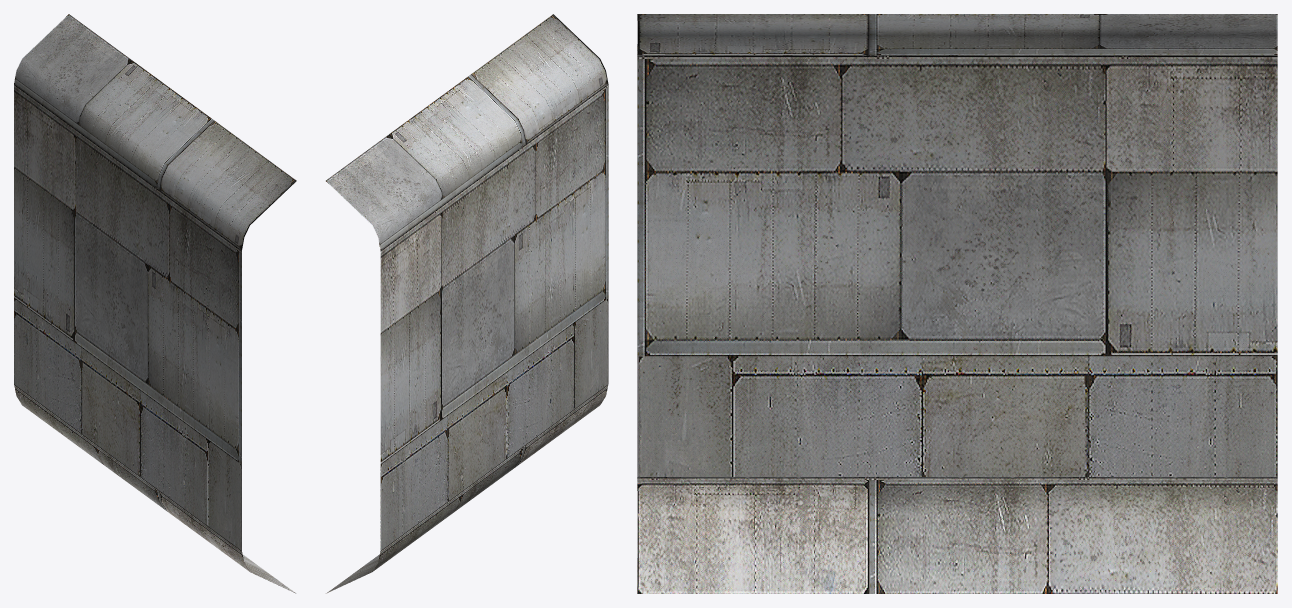
Rendered from Wall_F_Big4mts_01.fbx.
3 views of the same model, side by side, from view 1: azimuth 30°, elevation 25°; view 2: azimuth 150°, elevation 25°; view 3: azimuth 270°, elevation 25° (orthographic). The views are drawn at different scales.
Visible parts, largest first — view 1: Wall_F_Big4mts_01; view 2: Wall_F_Big4mts_01; view 3: Wall_F_Big4mts_01.
Boxes of the visible parts, x1=… form: Wall_F_Big4mts_01: x1=14, y1=14, x2=296, y2=593; Wall_F_Big4mts_01: x1=326, y1=14, x2=608, y2=593; Wall_F_Big4mts_01: x1=637, y1=14, x2=1277, y2=593.
Size of the model in its own units: 139 by 1000 by 1000.
